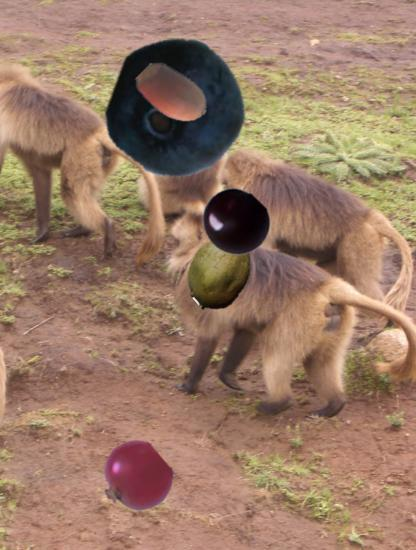Blueberry: (108, 38, 248, 178)
Cherry: (201, 187, 271, 257)
Hazelnut: (136, 55, 213, 132)
Papaya: (182, 234, 259, 311)
Redcurrant: (99, 442, 172, 515)
